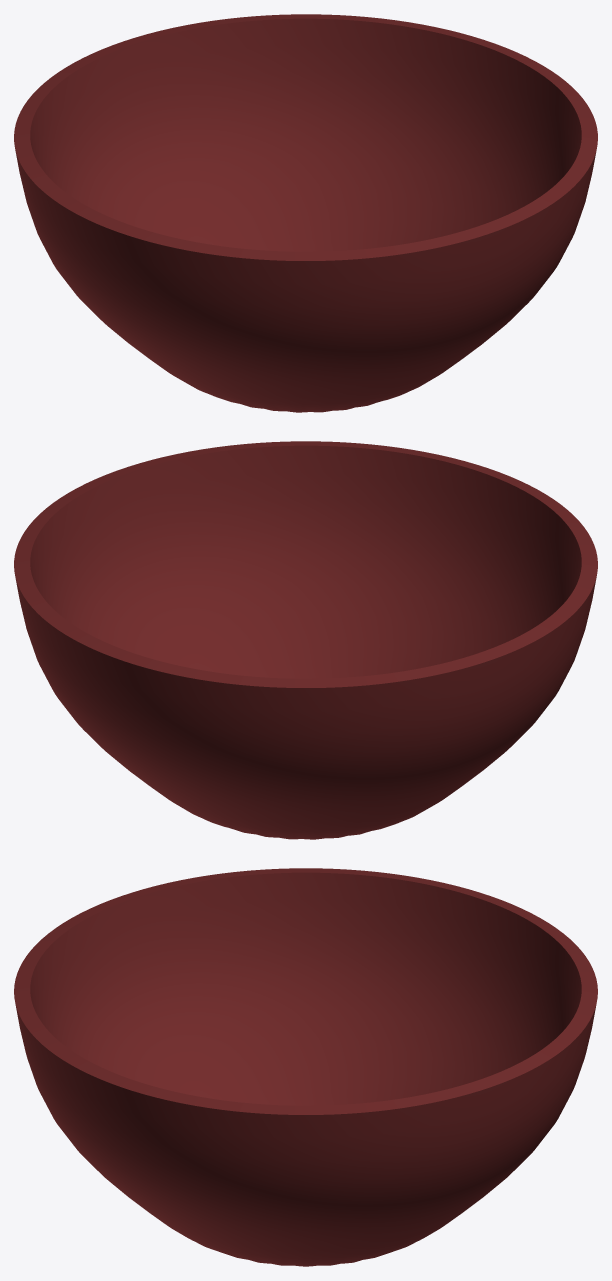
Rendered from Bowl.fbx.
3 views of the same model, one above another, from view 1: azimuth 30°, elevation 25°; view 2: azimuth 150°, elevation 25°; view 3: azimuth 270°, elevation 25° (orthographic).
Visible parts, largest first — view 1: Circle; view 2: Circle; view 3: Circle.
Part boxes in pixels (x1,y1,x2,y2): Circle: (14,14,597,412); Circle: (14,441,597,839); Circle: (14,868,597,1266).
Size of the model in its own units: 355 by 163 by 355.
